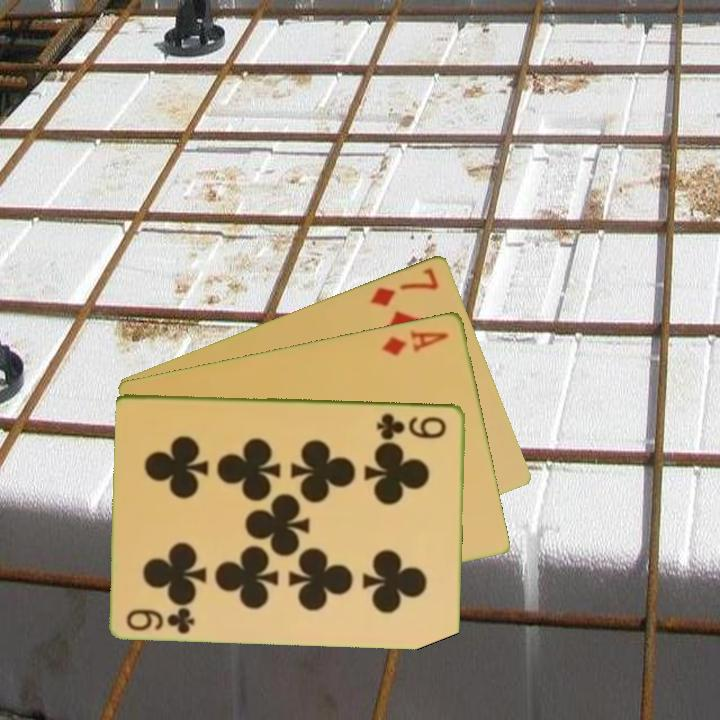7d: (367, 263, 442, 309)
9c: (123, 604, 198, 637), (373, 409, 449, 440)
Ad: (378, 326, 452, 358)
